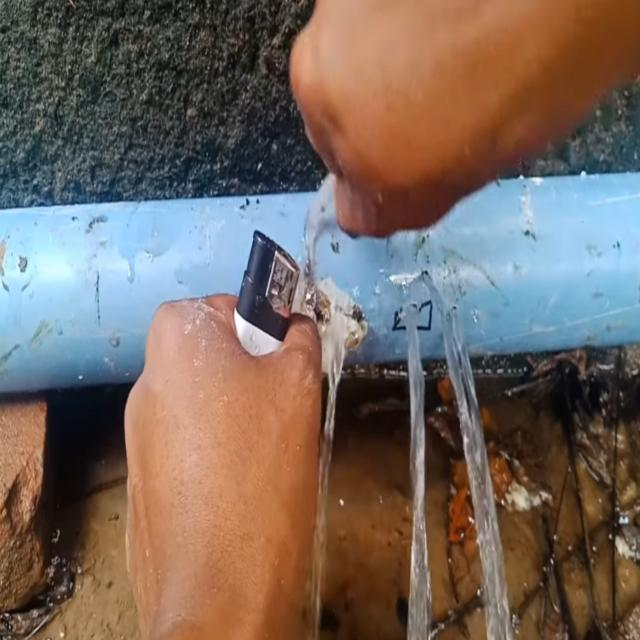leak: (292, 176, 368, 636), (422, 273, 512, 640), (402, 304, 432, 639)
